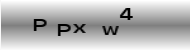4: (118, 7, 134, 20)
P: (33, 18, 48, 32), (56, 23, 71, 36)
w: (101, 25, 119, 36)
x: (72, 23, 87, 34)
